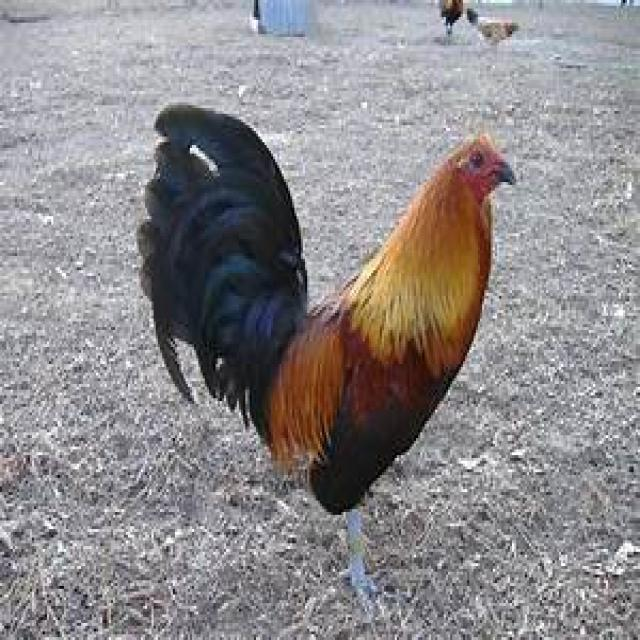hen: (139, 105, 518, 612)
